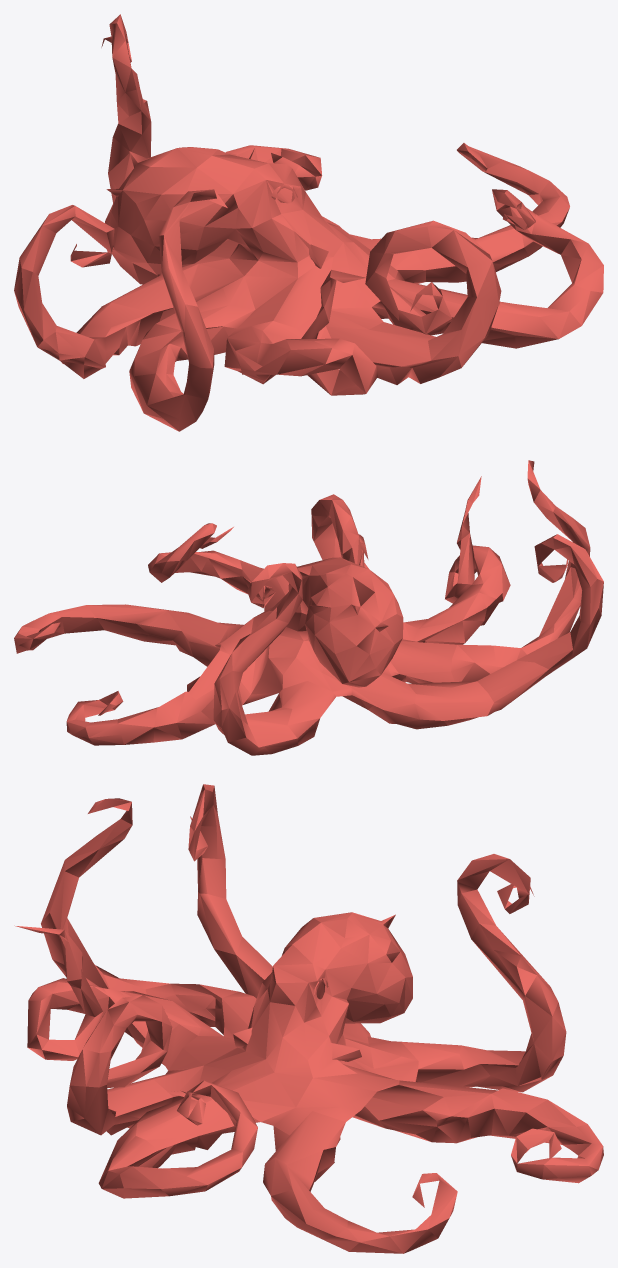
The model's file is octopus animated.fbx.
The picture shows the model from 3 angles, top to bottom: view 1: azimuth 30°, elevation 25°; view 2: azimuth 150°, elevation 25°; view 3: azimuth 270°, elevation 25°; orthographic projection. The views are drawn at different scales.
Visible parts, largest first — view 1: otcopus; view 2: otcopus; view 3: otcopus.
Part boxes in pixels (left/top/right/bottom): otcopus: left=14, top=14, right=603, bottom=431; otcopus: left=14, top=460, right=603, bottom=755; otcopus: left=14, top=784, right=603, bottom=1253.
Bounding box in the file's own units: 134 × 49.97 × 112.
